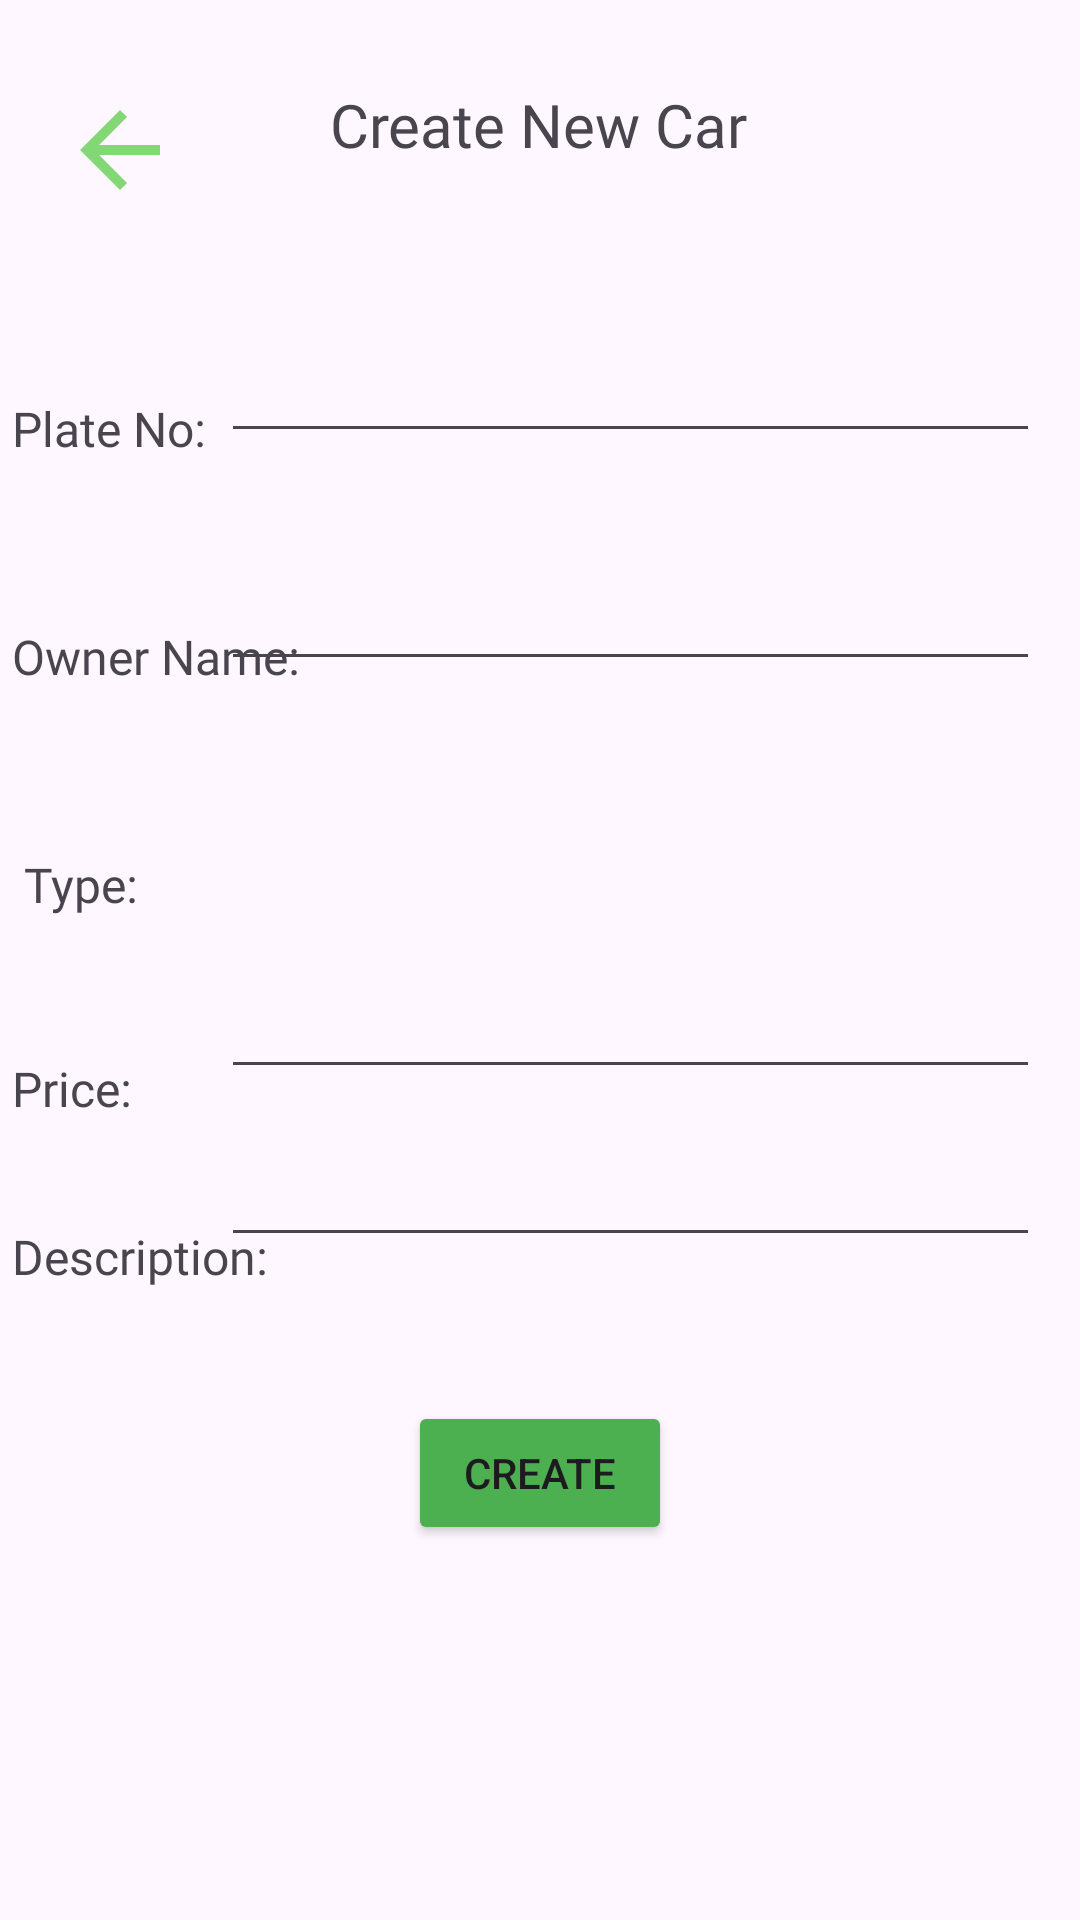

Icon click points for this 1080 × 1920 phone screenshot, format point (x, y):
arrow back: point (120, 150)
